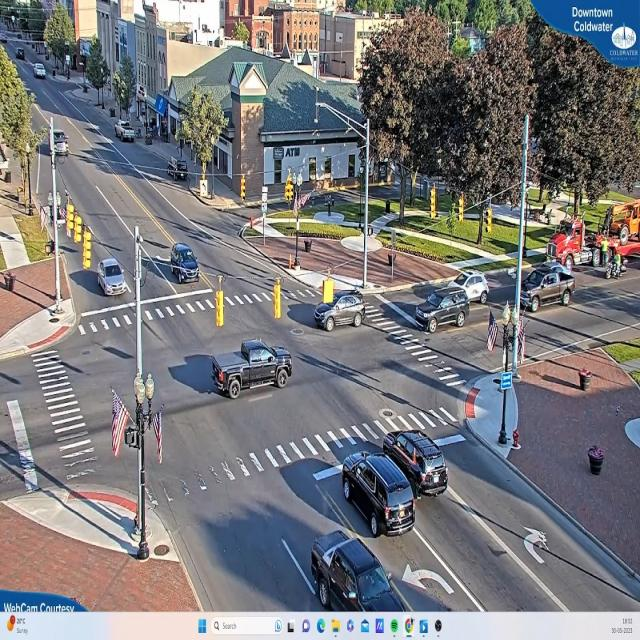car: (312, 527, 406, 611), (341, 452, 418, 540), (210, 340, 292, 404), (384, 431, 448, 496), (412, 281, 473, 332), (521, 266, 575, 312), (314, 295, 364, 332), (96, 258, 130, 298), (451, 271, 488, 303), (170, 244, 201, 282), (117, 121, 137, 145), (32, 64, 46, 78)
